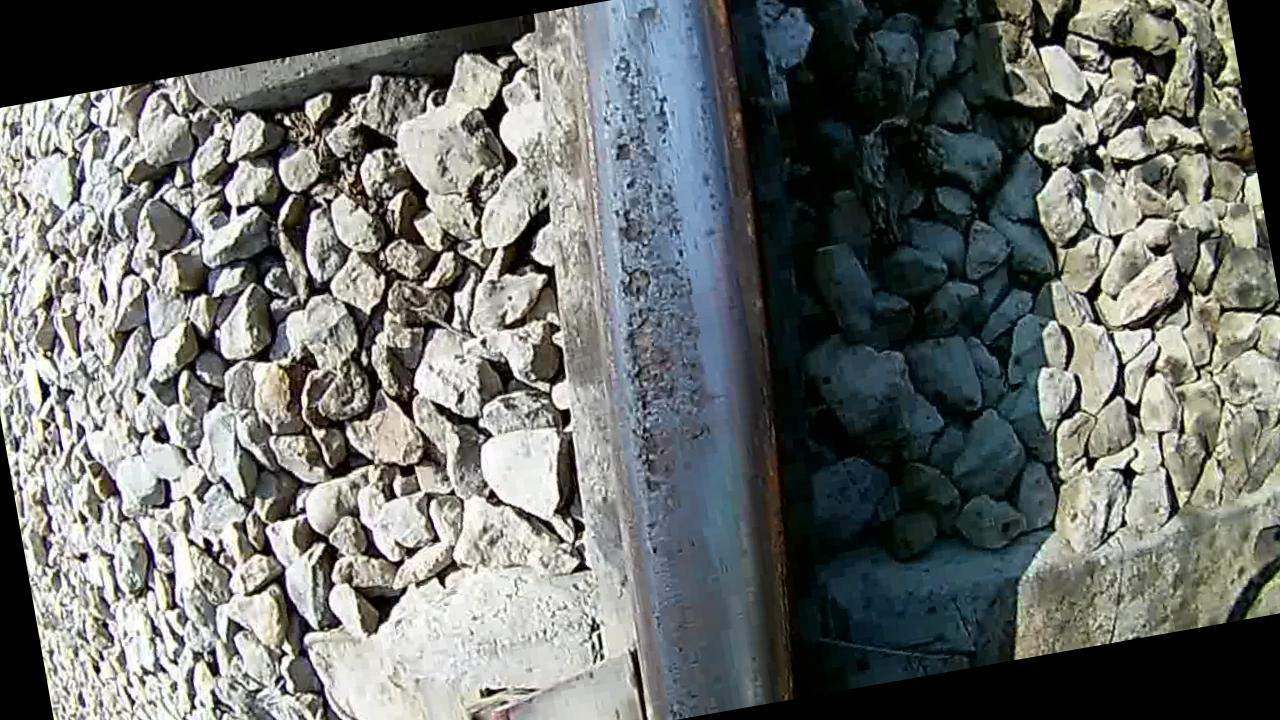crack: (520, 0, 842, 720)
